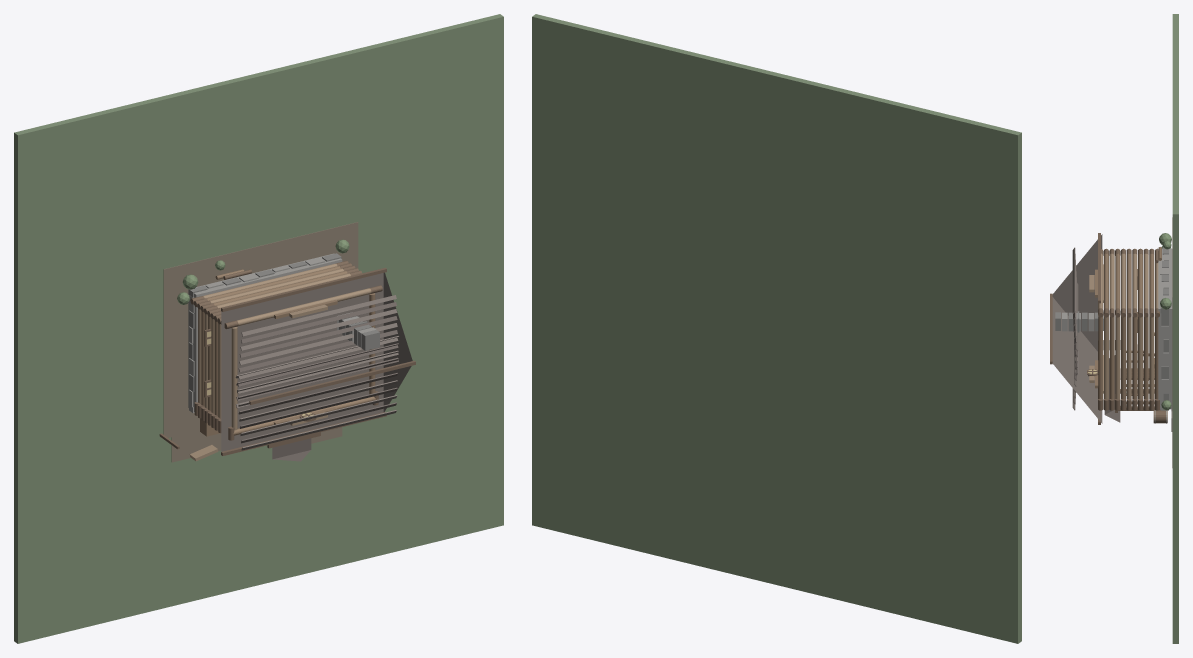
The model's file is cabin.glb.
The picture shows the model from 3 angles, left to right: view 1: azimuth 30°, elevation 25°; view 2: azimuth 150°, elevation 25°; view 3: azimuth 270°, elevation 25°; orthographic projection. The views are drawn at different scales.
Visible parts, largest first — view 1: ground, roof_main, dirt_0, foundation_base, dirt_1, eave_back, ridge, shing_front_8, shing_front_9, shing_front_10, shing_front_7, backlog_10 (+1 smaller); view 2: ground; view 3: roof_main, ground, foundation_base, rightlog_1, rightlog_2, rightlog_4, rightlog_5, rightlog_7, rightlog_8, rightlog_3, rightlog_6, rightlog_9 (+16 smaller).
Part boxes in pixels (<box>): ground: <box>14,14,503,643</box>; roof_main: <box>221,272,412,451</box>; dirt_0: <box>163,222,358,437</box>; foundation_base: <box>188,253,342,411</box>; dirt_1: <box>171,408,221,462</box>; eave_back: <box>221,267,386,311</box>; ridge: <box>249,360,415,404</box>; shing_front_8: <box>240,309,397,350</box>; shing_front_9: <box>241,302,396,343</box>; shing_front_10: <box>241,295,396,336</box>; shing_front_7: <box>239,316,397,357</box>; backlog_10: <box>237,288,371,326</box>; ground: <box>532,14,1021,643</box>; roof_main: <box>1052,234,1102,423</box>; ground: <box>1172,14,1178,643</box>; foundation_base: <box>1158,248,1172,409</box>; rightlog_1: <box>1149,316,1154,399</box>; rightlog_2: <box>1143,316,1148,399</box>; rightlog_4: <box>1132,316,1137,399</box>; rightlog_5: <box>1126,316,1131,399</box>; rightlog_7: <box>1115,316,1120,399</box>; rightlog_8: <box>1109,316,1114,399</box>; rightlog_3: <box>1138,316,1142,399</box>; rightlog_6: <box>1121,316,1125,399</box>; rightlog_9: <box>1104,316,1108,399</box>.
Size of the model in its own units: 30 by 30 by 8.15.
